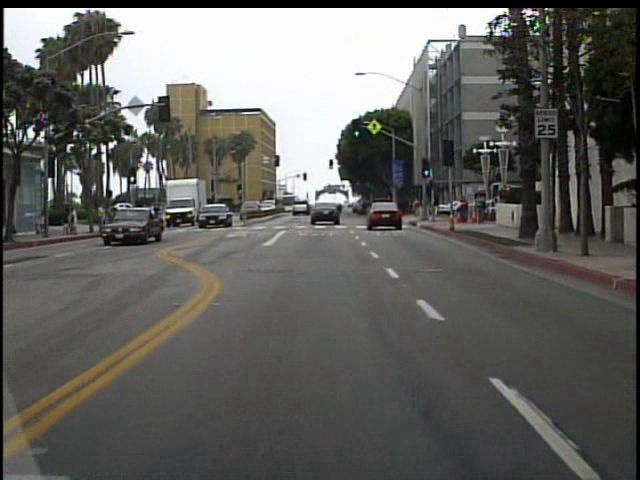person: (97, 197, 109, 235), (39, 213, 50, 237)
